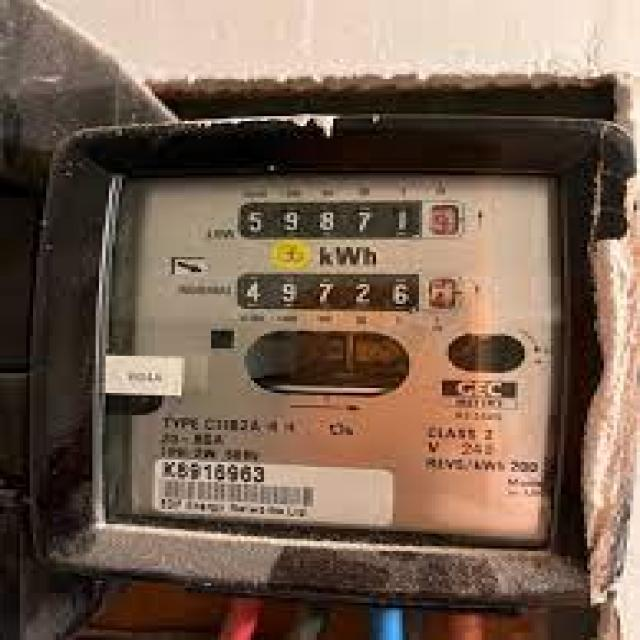1: (390, 205, 415, 237)
5: (244, 206, 268, 234)
7: (348, 204, 376, 236)
8: (310, 205, 341, 237)
9: (278, 208, 303, 238), (429, 208, 456, 235)
analog meter: (237, 199, 466, 243)
